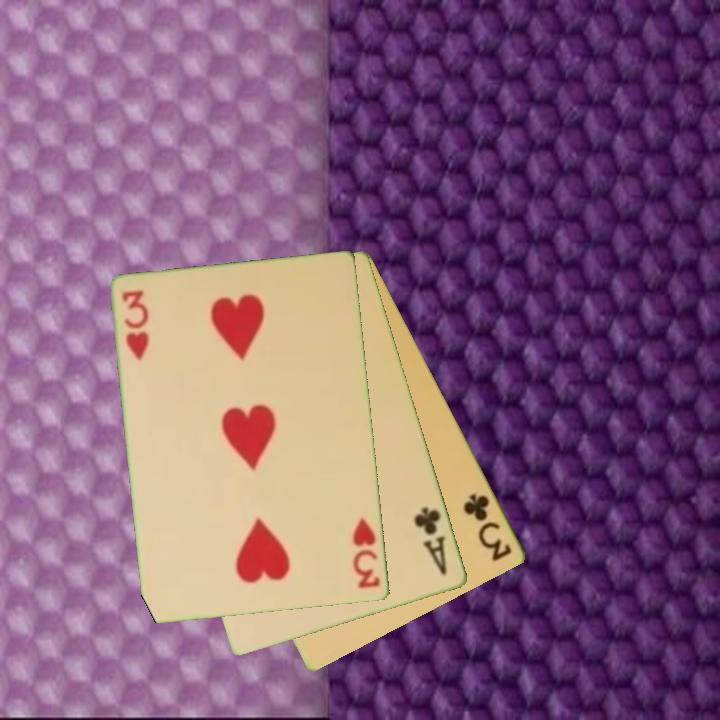3c: (460, 490, 516, 564)
3h: (349, 515, 383, 592), (119, 287, 152, 364)
Ac: (411, 503, 451, 579)
